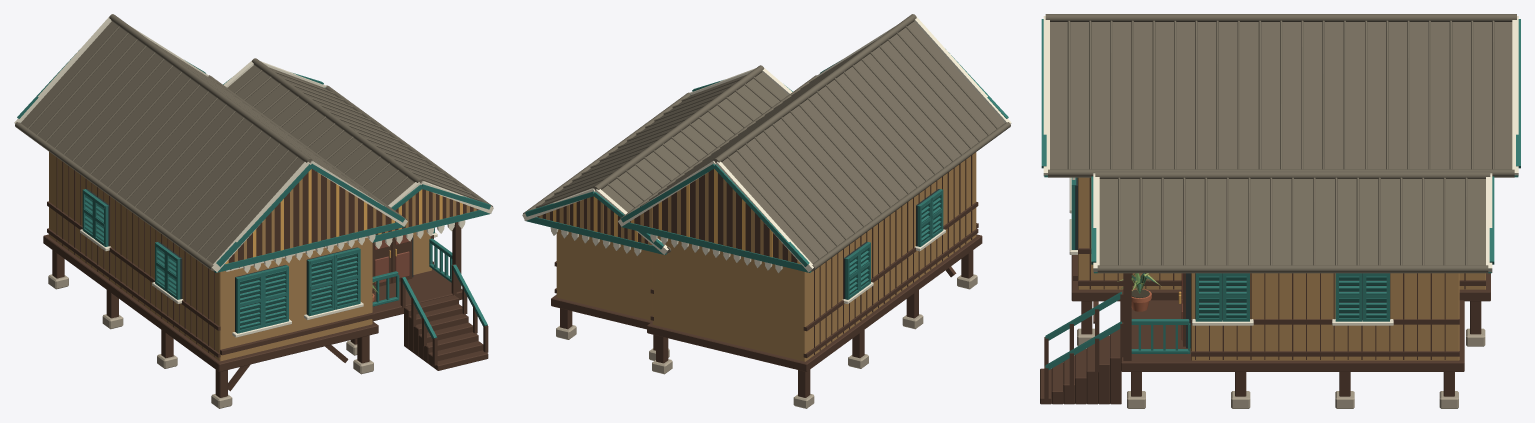
3 views of the same model, side by side, from view 1: azimuth 30°, elevation 25°; view 2: azimuth 150°, elevation 25°; view 3: azimuth 270°, elevation 25° (orthographic). The views are drawn at different scales.
Parts seen in each view (by area): view 1: Pitched roof, Raised timber rooms, Woven gable panels, Louvred shutters, Stone shoes and posts, Stair treads, Raking bargeboards, Entrance joinery, Verandah rails; view 2: Pitched roof, Raised timber rooms, Woven gable panels, Stone shoes and posts, Raking bargeboards, Louvred shutters; view 3: Pitched roof, Raised timber rooms, Louvred shutters, Stone shoes and posts, Stair treads, Raking bargeboards, Woven gable panels, Verandah rails, Potted pandan, Entrance joinery.
Part boxes in pixels (left/top/right/bottom): Pitched roof: left=15, top=14, right=492, bottom=271; Raised timber rooms: left=43, top=152, right=462, bottom=371; Woven gable panels: left=17, top=50, right=490, bottom=272; Louvred shutters: left=80, top=189, right=437, bottom=337; Stone shoes and posts: left=48, top=222, right=488, bottom=408; Stair treads: left=404, top=295, right=488, bottom=370; Raking bargeboards: left=14, top=16, right=493, bottom=272; Entrance joinery: left=372, top=235, right=413, bottom=287; Verandah rails: left=372, top=238, right=452, bottom=306; Pitched roof: left=523, top=14, right=1010, bottom=271; Raised timber rooms: left=551, top=152, right=982, bottom=371; Woven gable panels: left=525, top=52, right=1008, bottom=273; Stone shoes and posts: left=556, top=250, right=977, bottom=408; Raking bargeboards: left=522, top=16, right=1011, bottom=272; Louvred shutters: left=842, top=189, right=945, bottom=304; Pitched roof: left=1045, top=14, right=1516, bottom=273; Raised timber rooms: left=1071, top=177, right=1490, bottom=371; Louvred shutters: left=1069, top=177, right=1393, bottom=325; Stone shoes and posts: left=1044, top=273, right=1485, bottom=408; Stair treads: left=1040, top=329, right=1121, bottom=404; Raking bargeboards: left=1043, top=16, right=1518, bottom=272; Woven gable panels: left=1041, top=19, right=1520, bottom=273; Verandah rails: left=1131, top=319, right=1190, bottom=353; Potted pandan: left=1117, top=273, right=1161, bottom=311; Entrance joinery: left=1178, top=273, right=1190, bottom=348.
Size of the model in its own units: 9.33 by 7.09 by 10.74.
